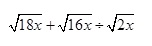sqrt: (56, 10, 93, 32), (7, 11, 41, 31), (106, 10, 135, 33)
